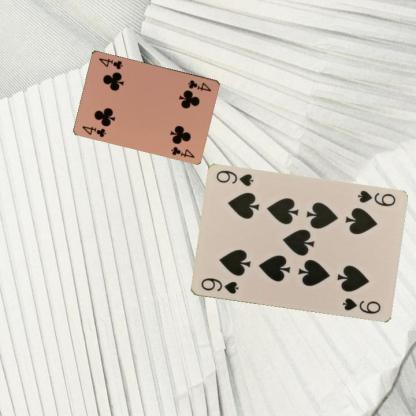4c: (80, 123, 107, 138), (186, 78, 212, 92)
9s: (198, 275, 240, 296), (355, 188, 396, 208)
